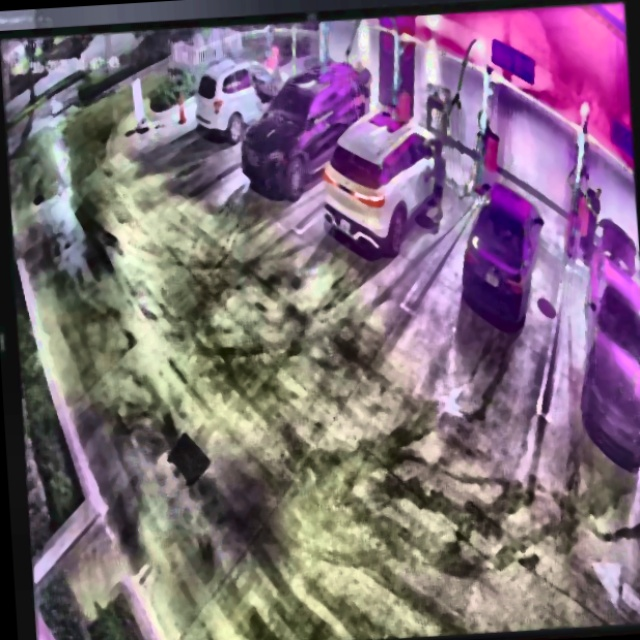Car: (320, 104, 448, 263), (234, 60, 373, 198), (456, 172, 551, 335)
